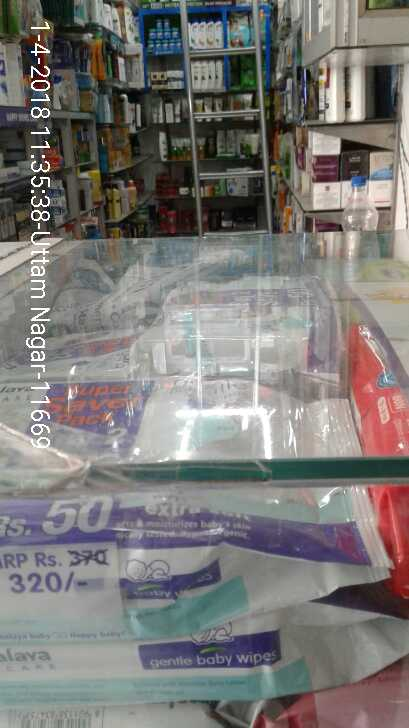vicks: (146, 17, 181, 52)
